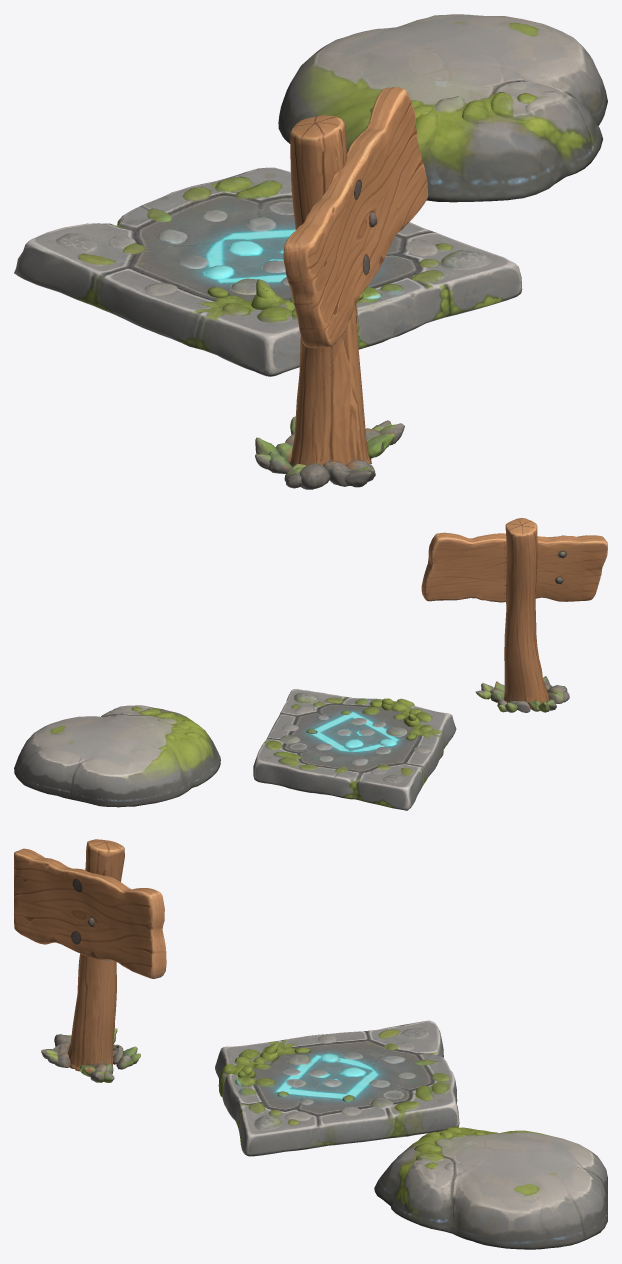
Rendered from lamina_1.glb.
The picture shows the model from 3 angles, top to bottom: view 1: azimuth 30°, elevation 25°; view 2: azimuth 150°, elevation 25°; view 3: azimuth 270°, elevation 25°; orthographic projection. The views are drawn at different scales.
Parts seen in each view (by area): view 1: baldosa_guardado, pasadero, cartel; view 2: baldosa_guardado, cartel, pasadero; view 3: baldosa_guardado, pasadero, cartel.
Part boxes in pixels (<box>): baldosa_guardado: <box>14,167,522,376</box>; pasadero: <box>278,14,607,202</box>; cartel: <box>255,87,428,489</box>; baldosa_guardado: <box>256,689,456,810</box>; cartel: <box>421,518,607,712</box>; pasadero: <box>14,705,258,807</box>; baldosa_guardado: <box>215,1020,458,1156</box>; pasadero: <box>374,1104,607,1249</box>; cartel: <box>14,839,166,1082</box>.
Size of the model in its own units: 0.878 by 0.4092 by 1.
1 material, 1 textured.
